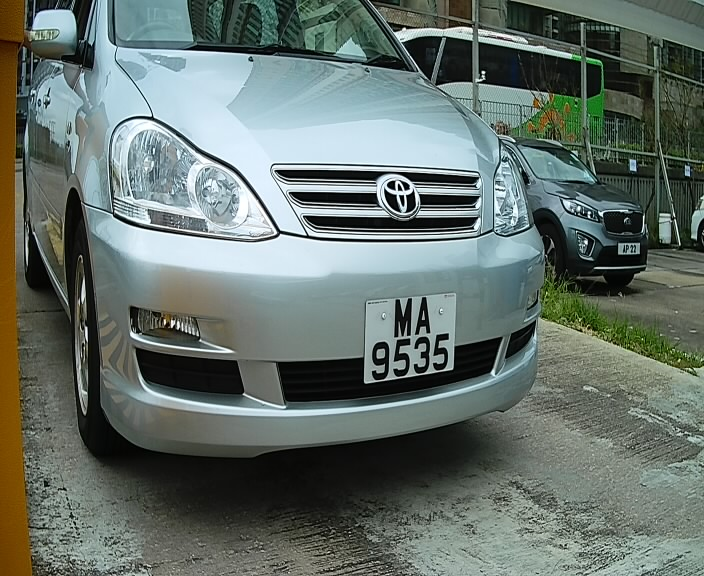Car: (8, 2, 555, 503)
License Plate: (357, 284, 460, 390)
